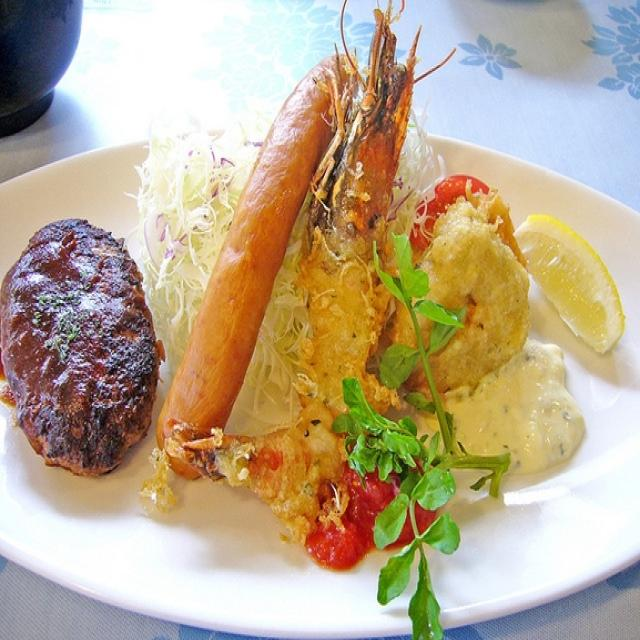炸货点心: (5, 13, 638, 628)
熟制海鲜: (5, 13, 638, 628)
